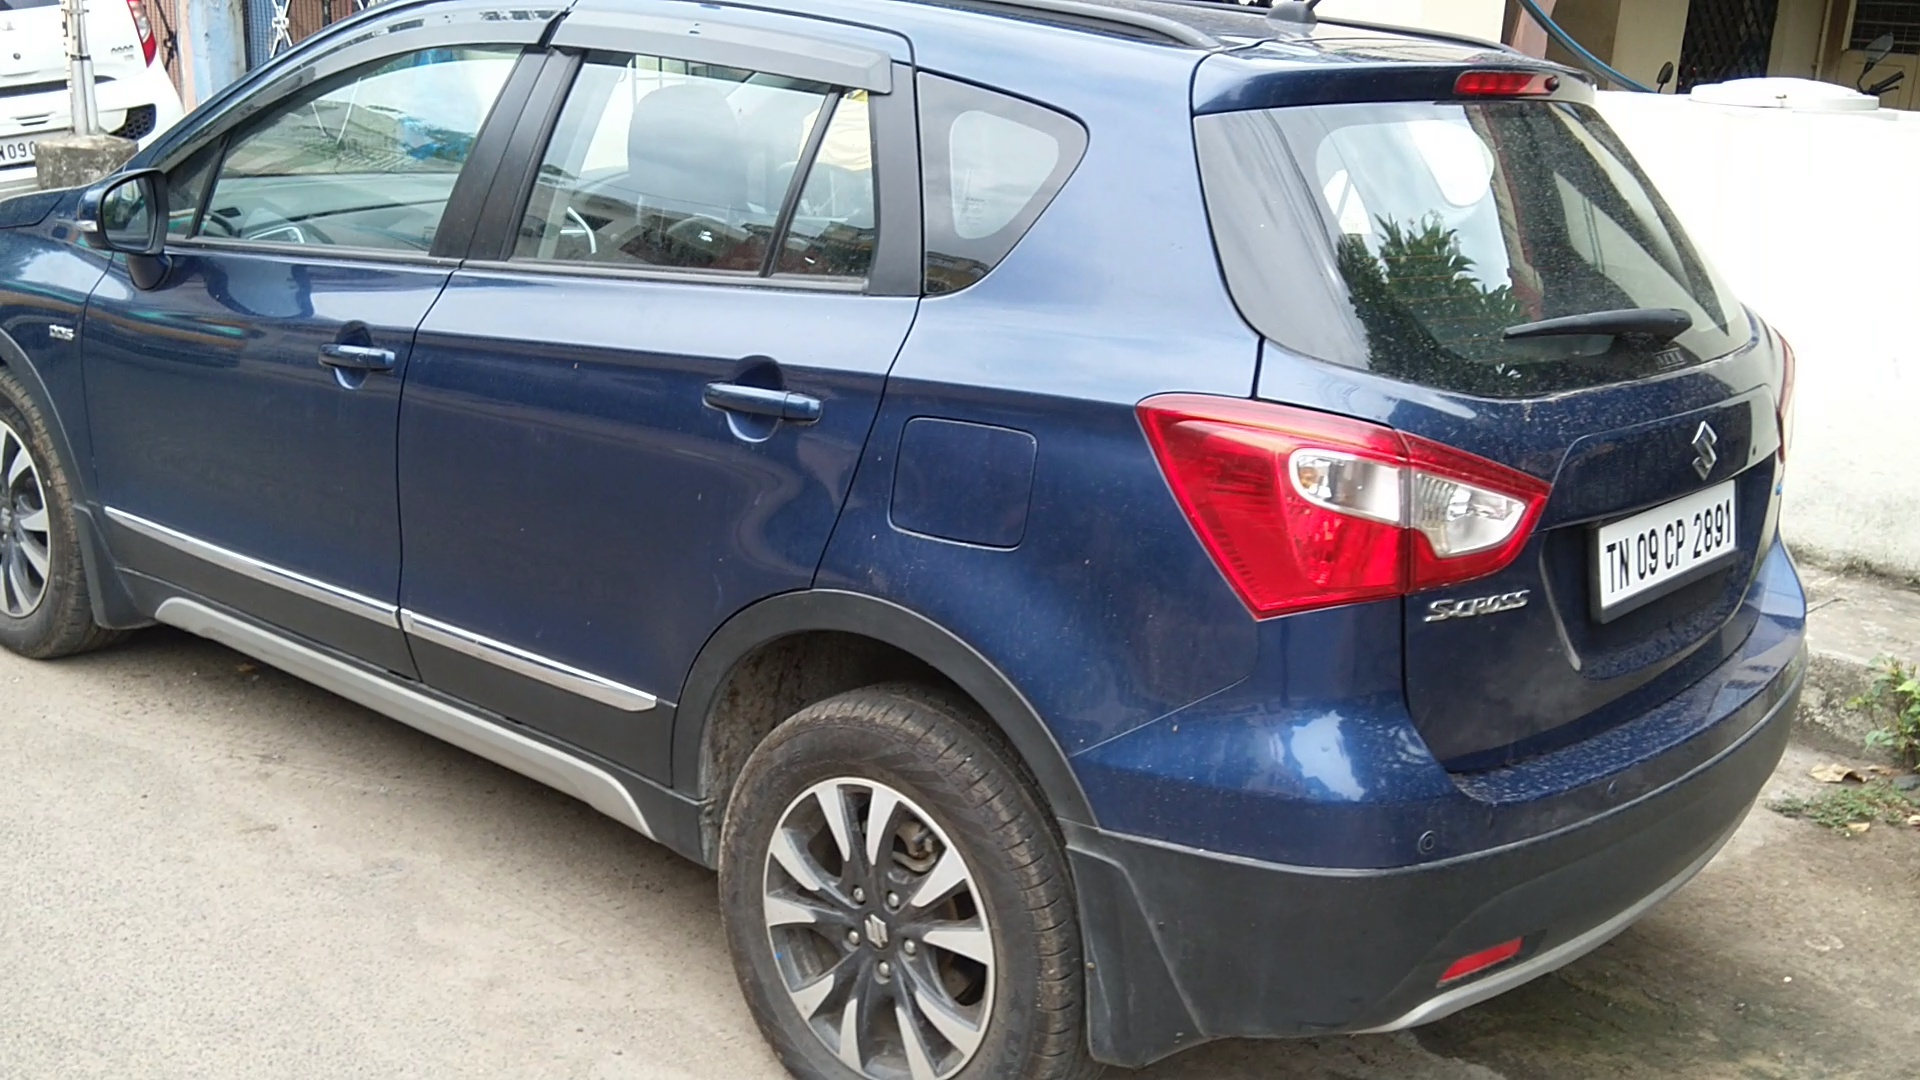alloy_wheel: (732, 687, 1055, 1080), (5, 363, 79, 661)
ovr_mirror: (70, 175, 170, 272)
rear_camera: (1542, 61, 1571, 102)
